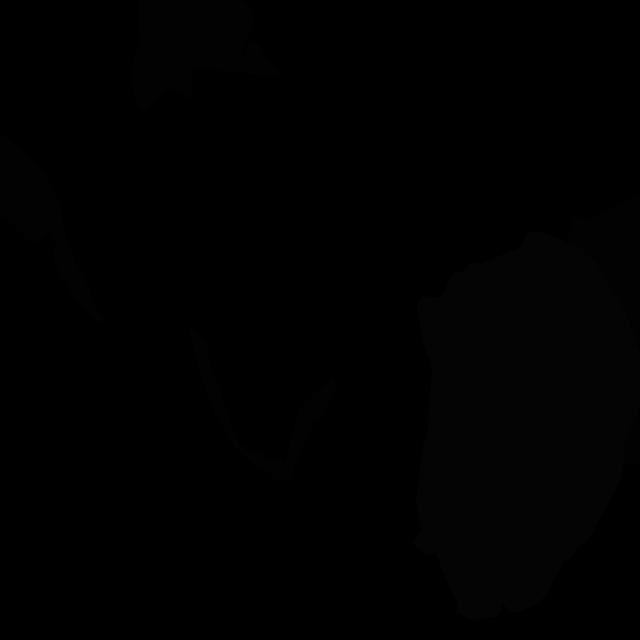cardboard: (189, 325, 336, 481), (0, 132, 105, 322), (131, 0, 284, 111), (567, 193, 640, 351), (624, 408, 640, 467)
soft_plastic: (413, 230, 640, 621)
